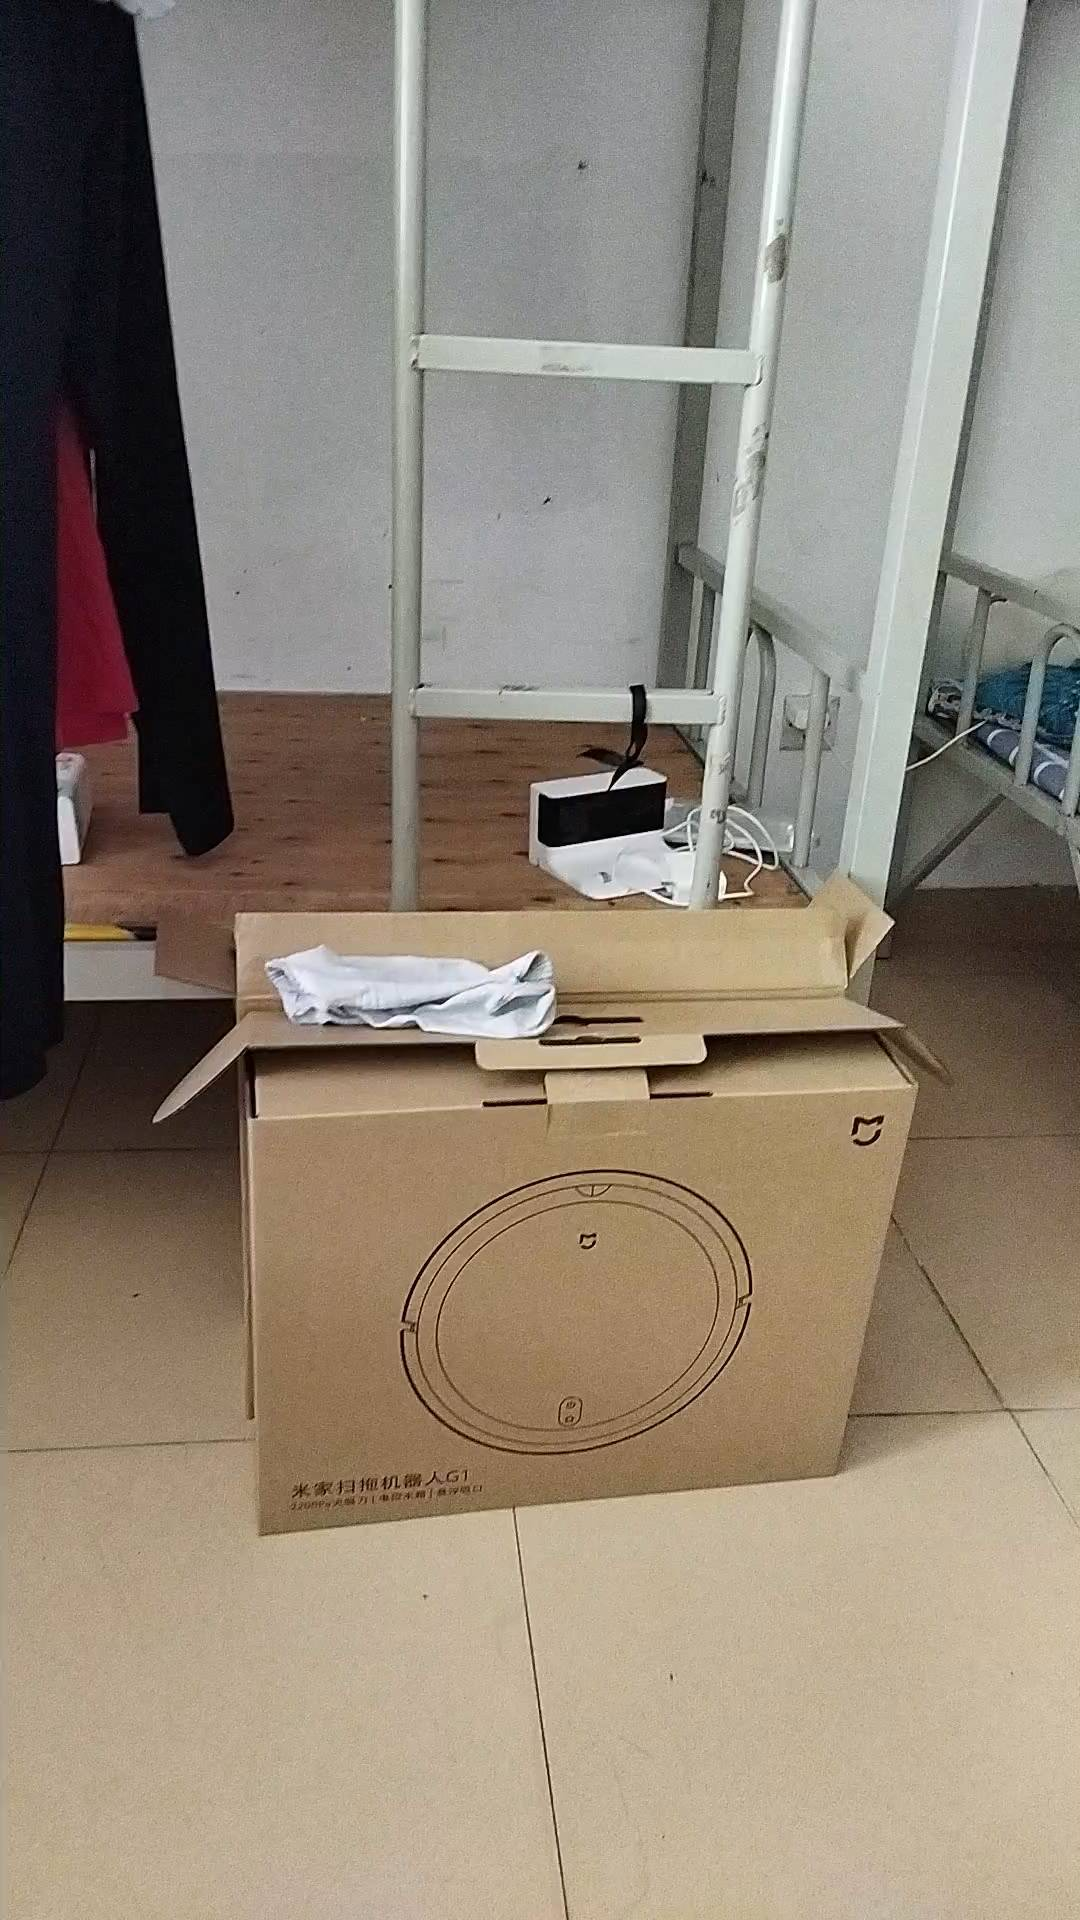recharge seat: (527, 767, 684, 899)
